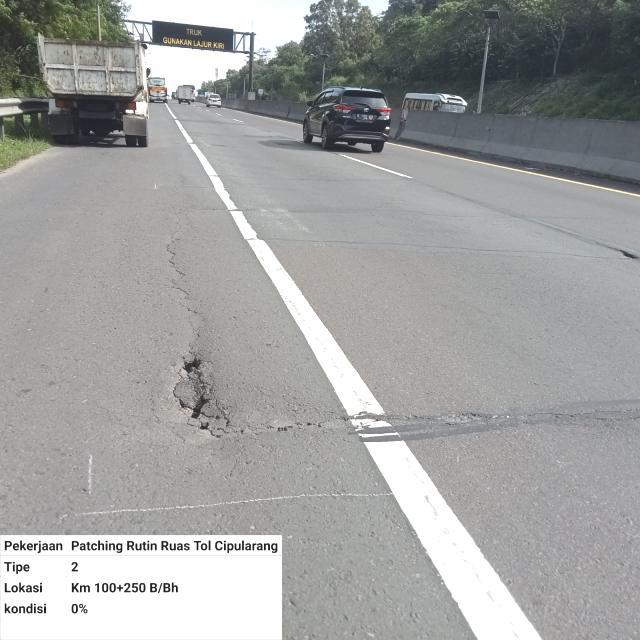Buraco: (166, 356, 234, 441), (616, 247, 640, 261)
